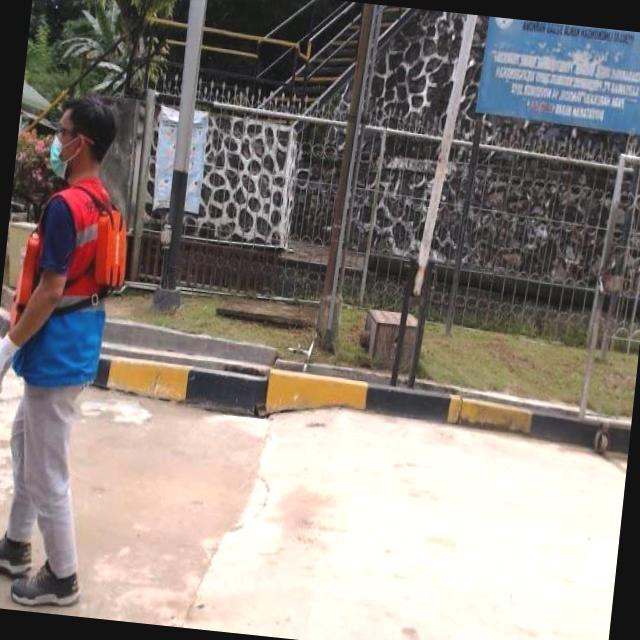vest: (1, 171, 136, 396)
